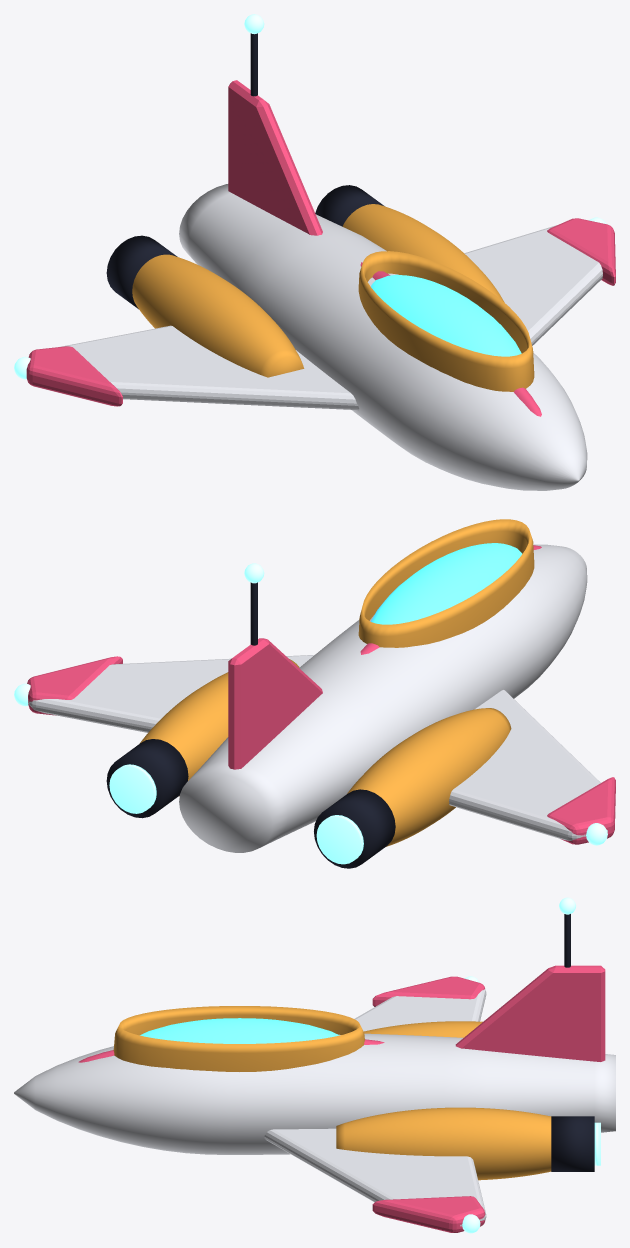
The model's file is spiral_scout.glb.
3 views of the same model, one above another, from view 1: azimuth 30°, elevation 25°; view 2: azimuth 150°, elevation 25°; view 3: azimuth 270°, elevation 25° (orthographic). The views are drawn at different scales.
Parts seen in each view (by area): view 1: Hull, WingL, PodL, CanopyRim, WingR, TailFin, Canopy, PodR, WingTipL, WingTipR, NozzleL, NozzleR; view 2: Hull, WingL, PodL, CanopyRim, WingR, TailFin, Canopy, PodR, NozzleL, NozzleR, WingTipL, WingTipR (+3 smaller); view 3: Hull, PodR, CanopyRim, TailFin, WingR, Canopy, WingL, WingTipR, NozzleR, WingTipL, PodL.
Part boxes in pixels (x1=…): Hull: x1=179, y1=184, x2=587, y2=490; WingL: x1=60, y1=325, x2=359, y2=410; PodL: x1=132, y1=254, x2=304, y2=377; CanopyRim: x1=358, y1=251, x2=534, y2=391; WingR: x1=464, y1=225, x2=602, y2=345; TailFin: x1=228, y1=80, x2=322, y2=235; Canopy: x1=371, y1=274, x2=521, y2=356; PodR: x1=342, y1=204, x2=504, y2=302; WingTipL: x1=26, y1=346, x2=122, y2=406; WingTipR: x1=547, y1=218, x2=615, y2=285; NozzleL: x1=106, y1=235, x2=177, y2=309; NozzleR: x1=315, y1=185, x2=384, y2=226; Hull: x1=179, y1=544, x2=587, y2=852; WingL: x1=449, y1=690, x2=607, y2=840; PodL: x1=347, y1=708, x2=511, y2=846; CanopyRim: x1=358, y1=519, x2=534, y2=647; WingR: x1=28, y1=655, x2=314, y2=732; TailFin: x1=228, y1=638, x2=322, y2=769; Canopy: x1=371, y1=543, x2=522, y2=624; PodR: x1=139, y1=659, x2=299, y2=796; NozzleL: x1=314, y1=789, x2=395, y2=868; NozzleR: x1=106, y1=739, x2=188, y2=818; WingTipL: x1=547, y1=777, x2=615, y2=844; WingTipR: x1=27, y1=656, x2=122, y2=715; Hull: x1=14, y1=1033, x2=615, y2=1154; PodR: x1=336, y1=1107, x2=551, y2=1180; CanopyRim: x1=113, y1=1006, x2=364, y2=1071; TailFin: x1=455, y1=965, x2=605, y2=1061; WingR: x1=264, y1=1128, x2=486, y2=1226; Canopy: x1=140, y1=1018, x2=339, y2=1043; WingL: x1=354, y1=989, x2=486, y2=1031; WingTipR: x1=372, y1=1196, x2=485, y2=1232; NozzleR: x1=551, y1=1116, x2=594, y2=1171; WingTipL: x1=372, y1=976, x2=484, y2=1006; PodL: x1=364, y1=1021, x2=482, y2=1037.
Bounding box in the file's own units: 0.542 × 0.2546 × 0.56.
